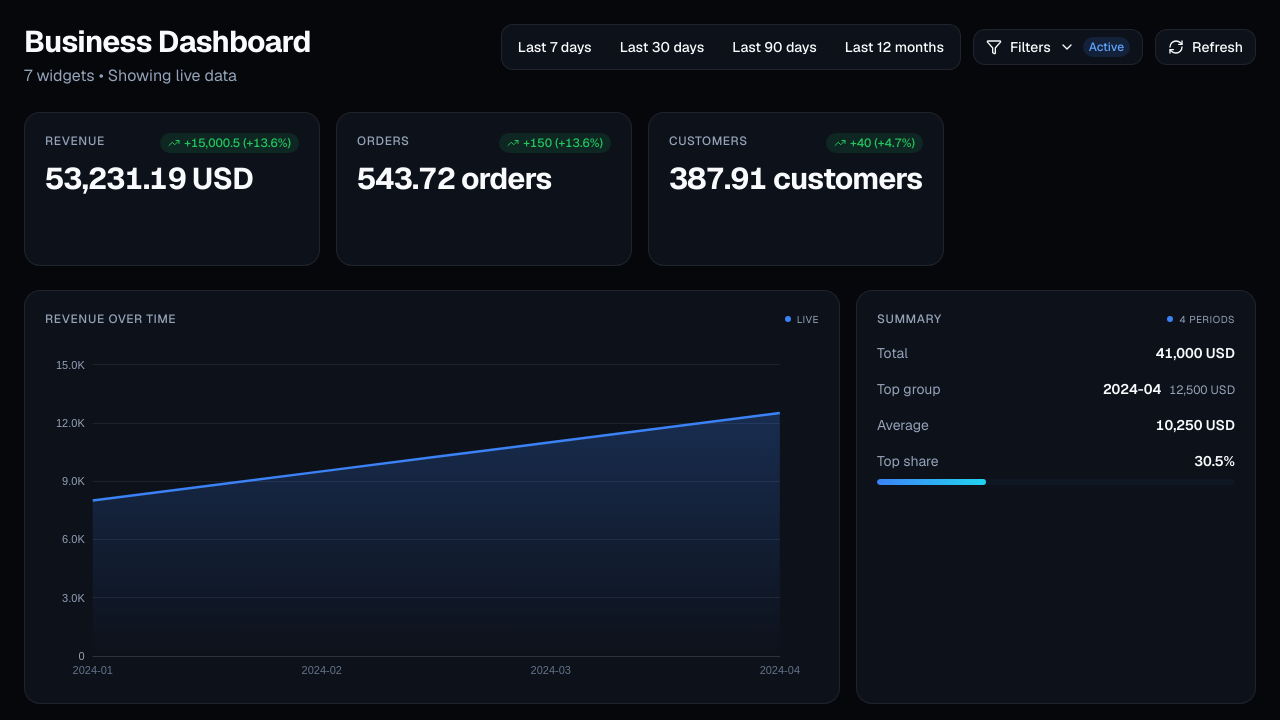
Test: Dashboard renders KPI/line/bar/pie/table + empty states › shows filter dropdown with date range
This screenshot has width=1280, height=720.
Check: the text "7 widgets • Showing live data" is shown, box [24, 65, 237, 86]
Click the button "Filters Active" at (1058, 47), box [973, 29, 1143, 65]
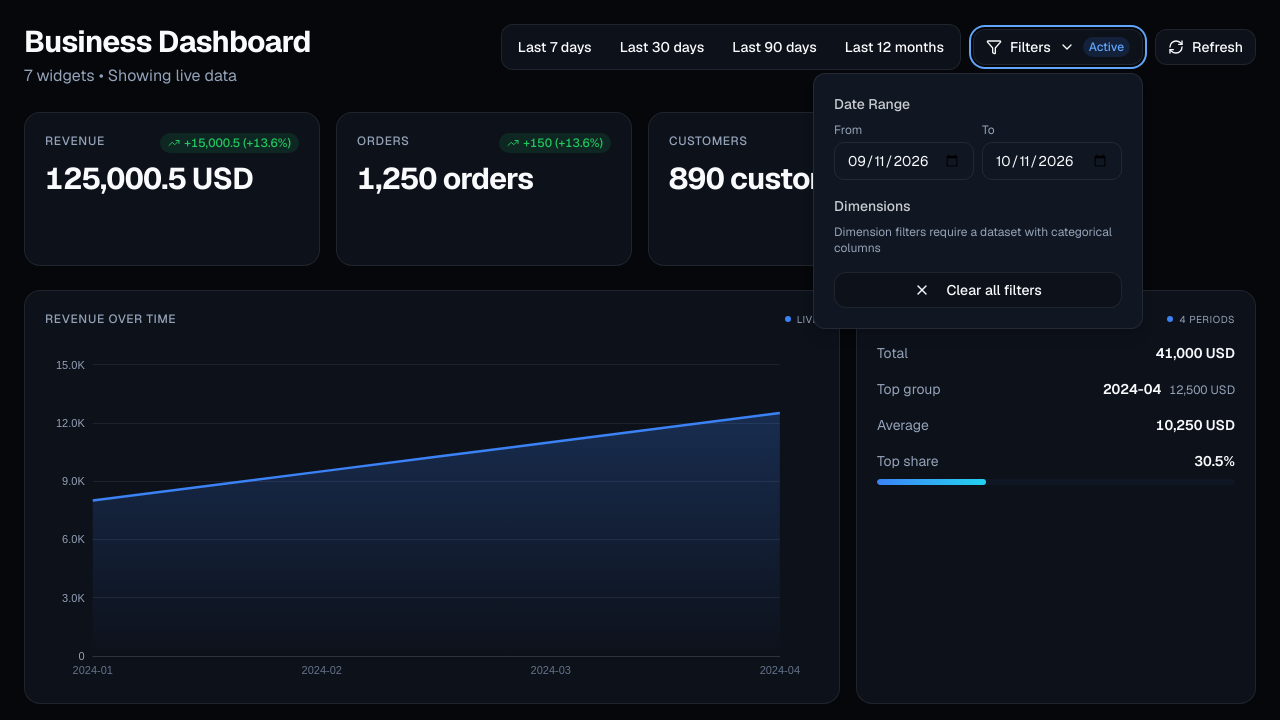
Check: the text "Date Range" is shown, box [834, 95, 910, 113]
Check: the text "From" is shown, box [834, 122, 862, 138]
Check: the text "To" is shown, box [982, 122, 995, 138]
